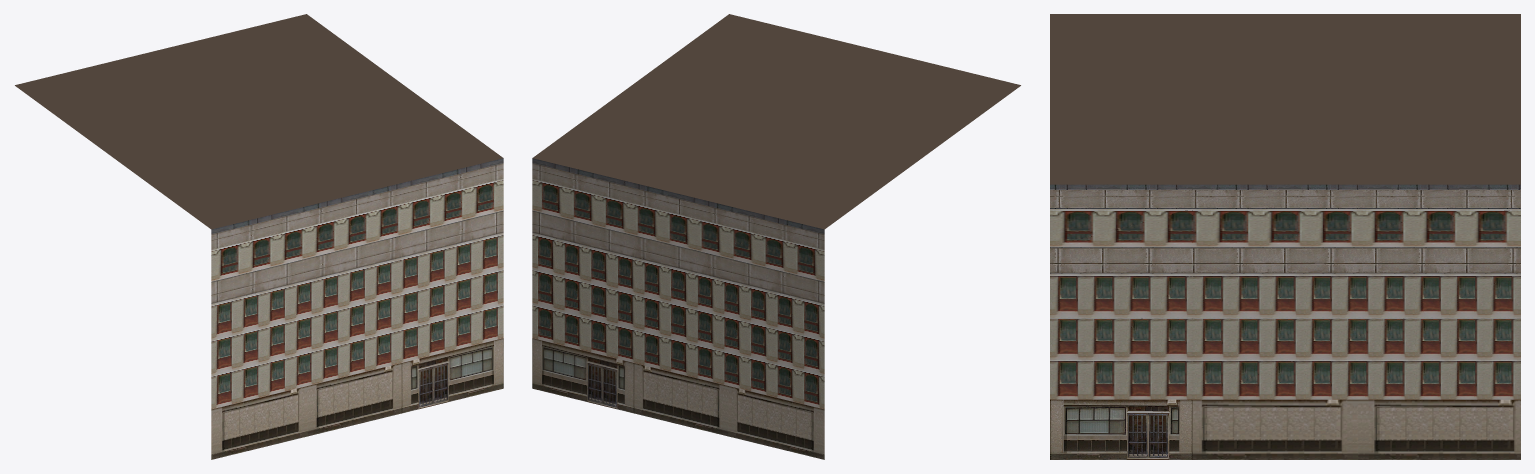
Rendered from M2Zone1_OfficeBlock4A.glb.
3 views of the same model, side by side, from view 1: azimuth 30°, elevation 25°; view 2: azimuth 150°, elevation 25°; view 3: azimuth 270°, elevation 25° (orthographic). The views are drawn at different scales.
Visible parts, largest first — view 1: M2ZONE1_OFFICEBLOCK4A; view 2: M2ZONE1_OFFICEBLOCK4A; view 3: M2ZONE1_OFFICEBLOCK4A.
Boxes of the visible parts, x1,y1,x2,y2 form: M2ZONE1_OFFICEBLOCK4A: (15, 14, 503, 459); M2ZONE1_OFFICEBLOCK4A: (532, 14, 1020, 459); M2ZONE1_OFFICEBLOCK4A: (1050, 14, 1520, 459).
Size of the model in its own units: 24 by 18.08 by 28.
Materials: 7 (7 with a texture image).
